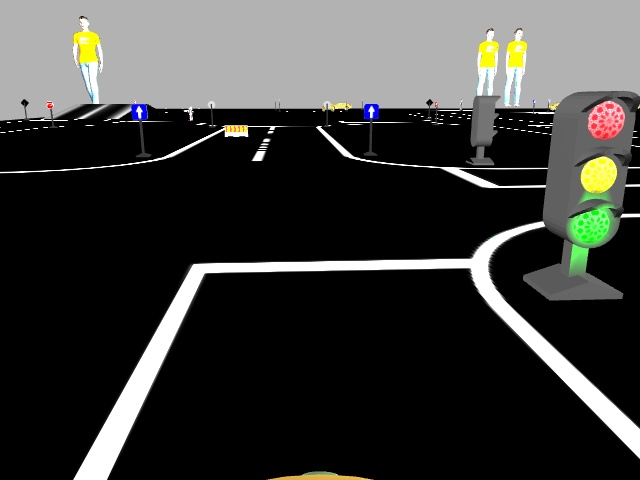ClosedRoadStand: (224, 124, 247, 136)
OneWay: (364, 103, 378, 118), (131, 104, 145, 119)
TrafficLight: (547, 91, 633, 246)
